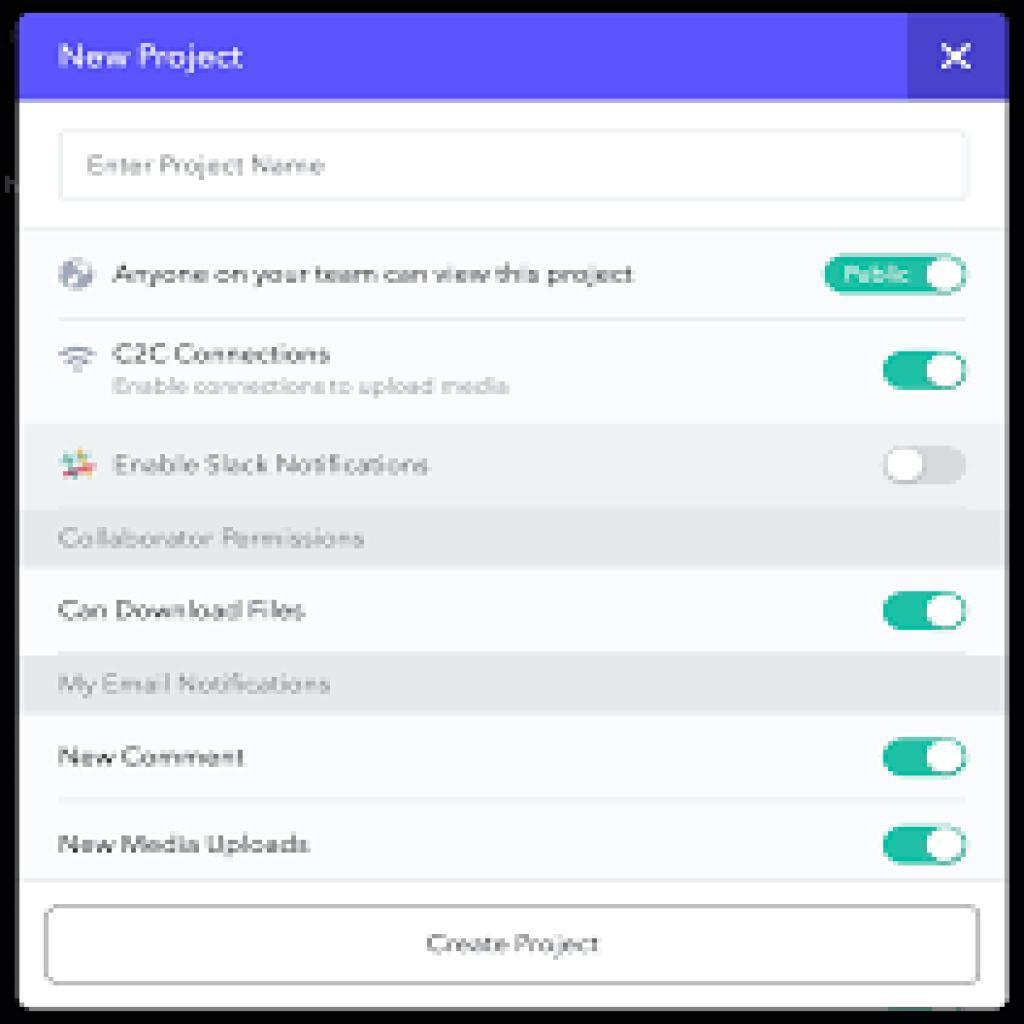button: (49, 910, 979, 984)
icon: (60, 341, 99, 386), (62, 255, 97, 302), (56, 449, 99, 485)
input: (63, 127, 972, 199)
label: (110, 337, 520, 406), (114, 260, 643, 296), (49, 519, 379, 557), (56, 666, 337, 707), (45, 596, 315, 638), (114, 452, 444, 486), (59, 826, 315, 866), (59, 739, 255, 782)
switch: (810, 240, 979, 305), (871, 816, 980, 874), (873, 338, 974, 396), (875, 436, 970, 497), (875, 734, 983, 784), (878, 583, 978, 634)
